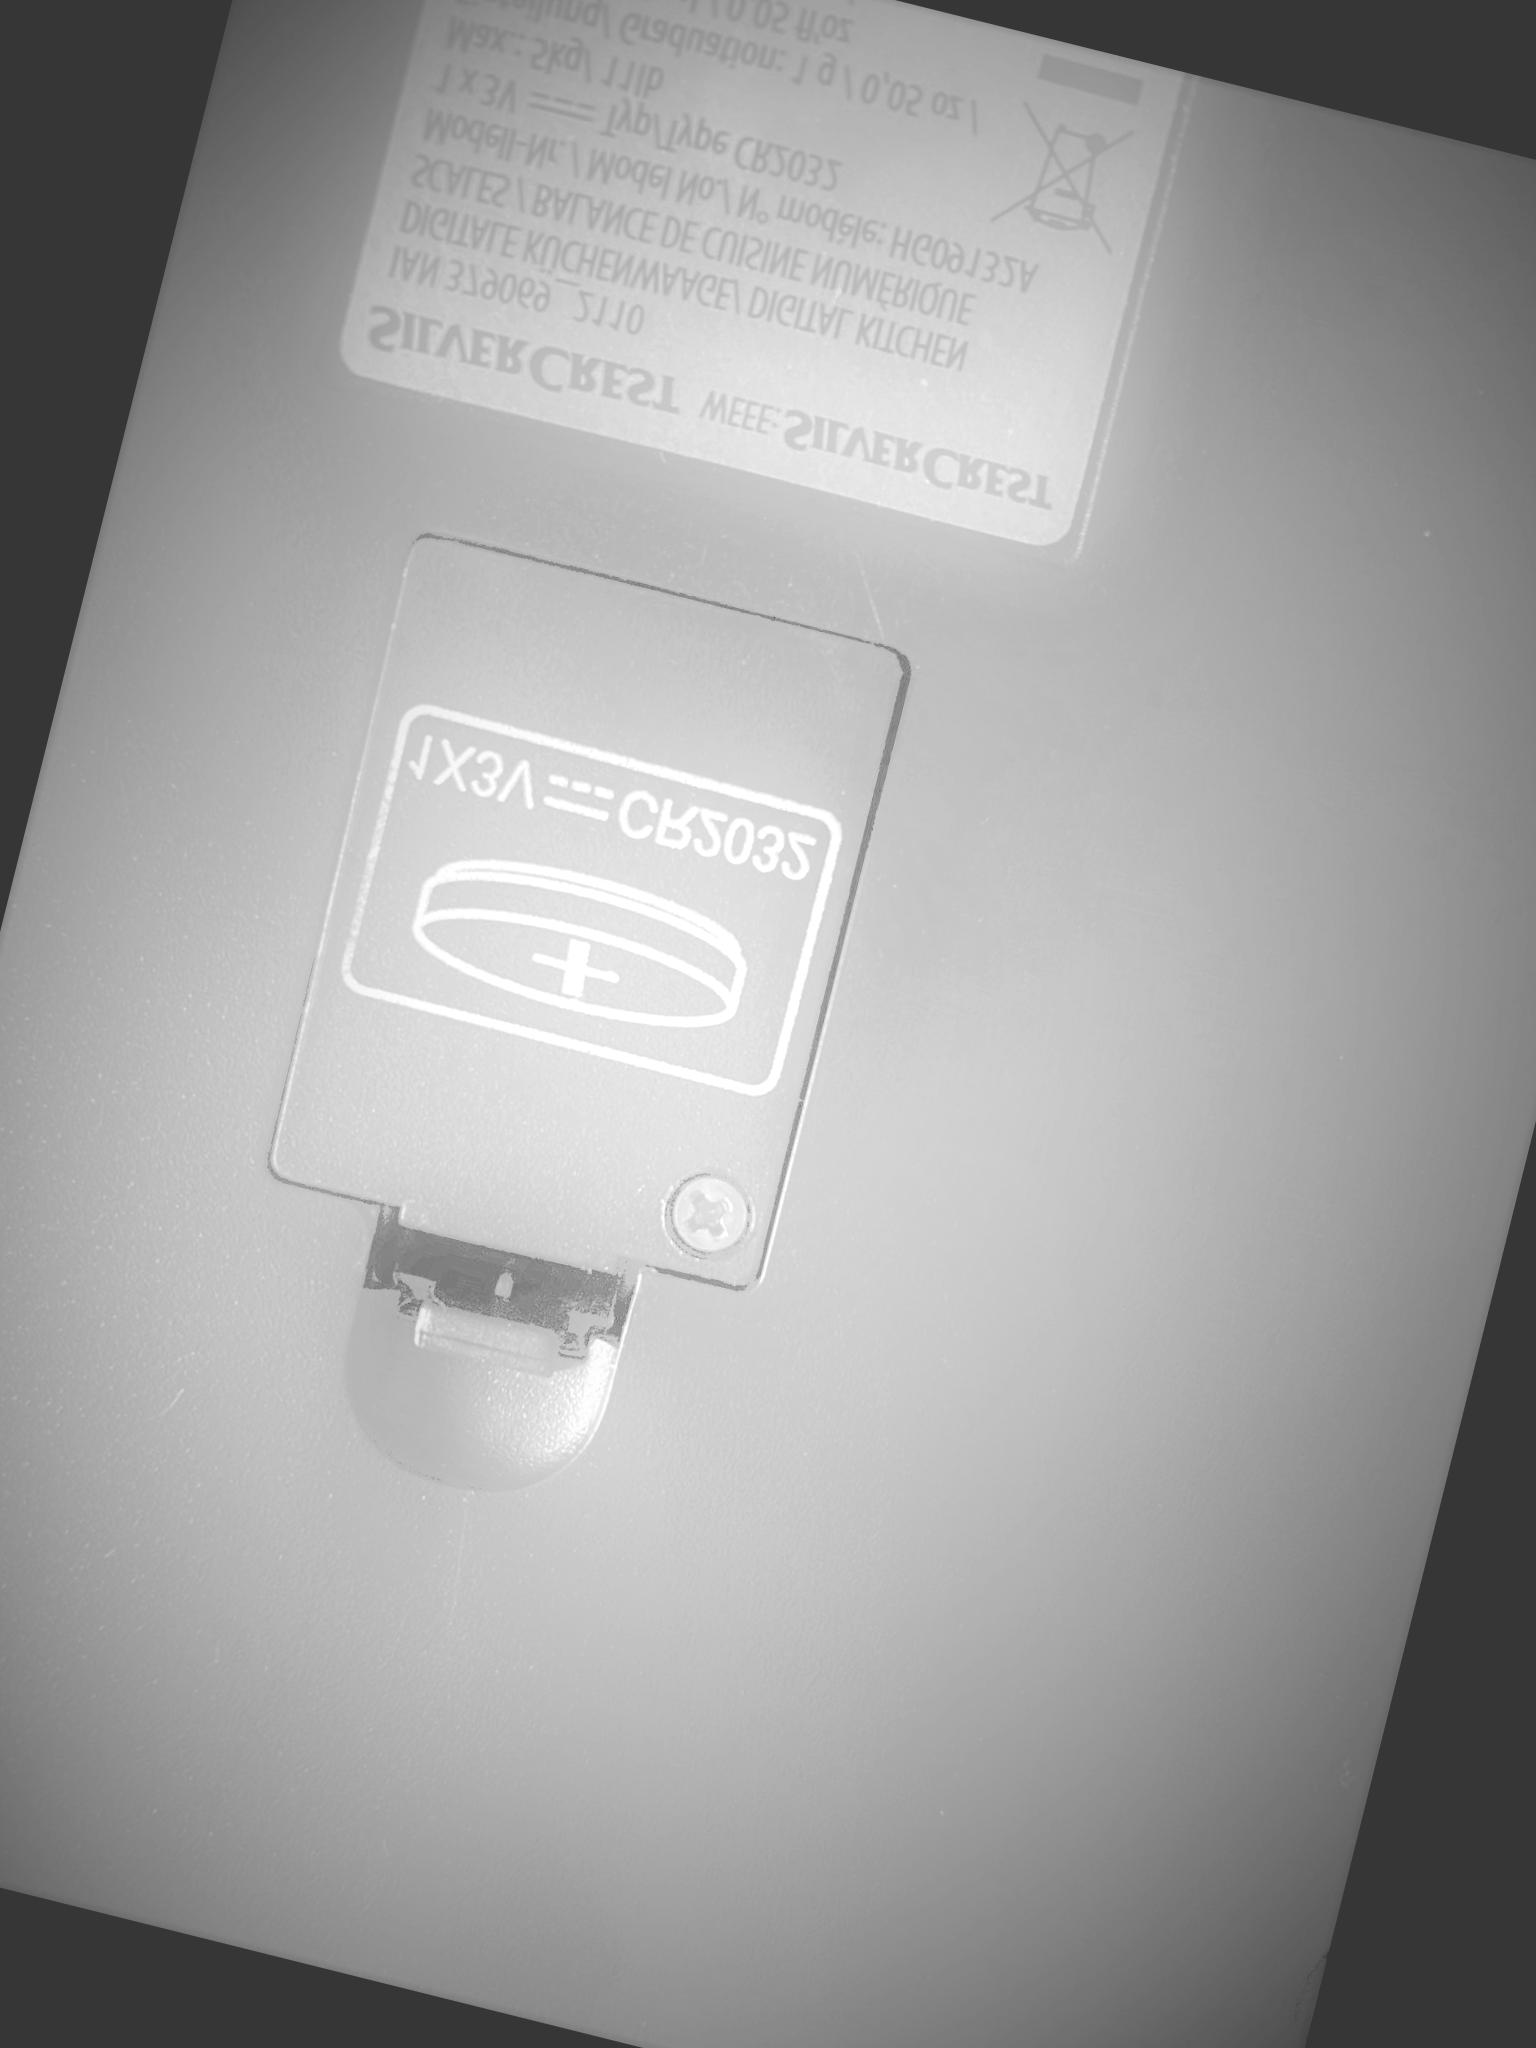philips-PZ: (660, 1168, 758, 1264)
